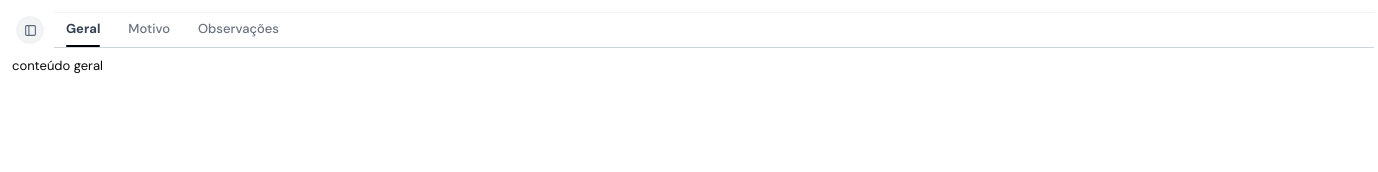
Test: Base1PanelTabs › troca aba por clique
Click the tab "Motivo": (149, 30) [116, 12, 182, 46]
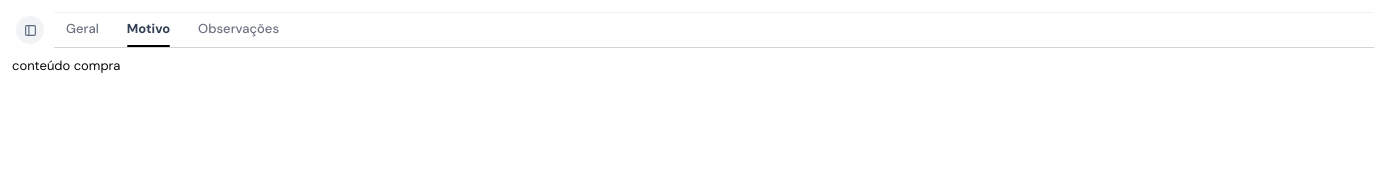
Now the text "conteúdo compra" is shown, box [12, 57, 120, 74]
